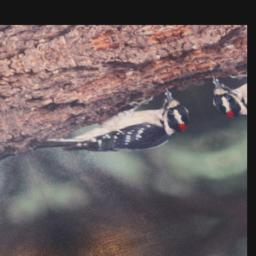Woodpecker: (22, 83, 203, 179)
